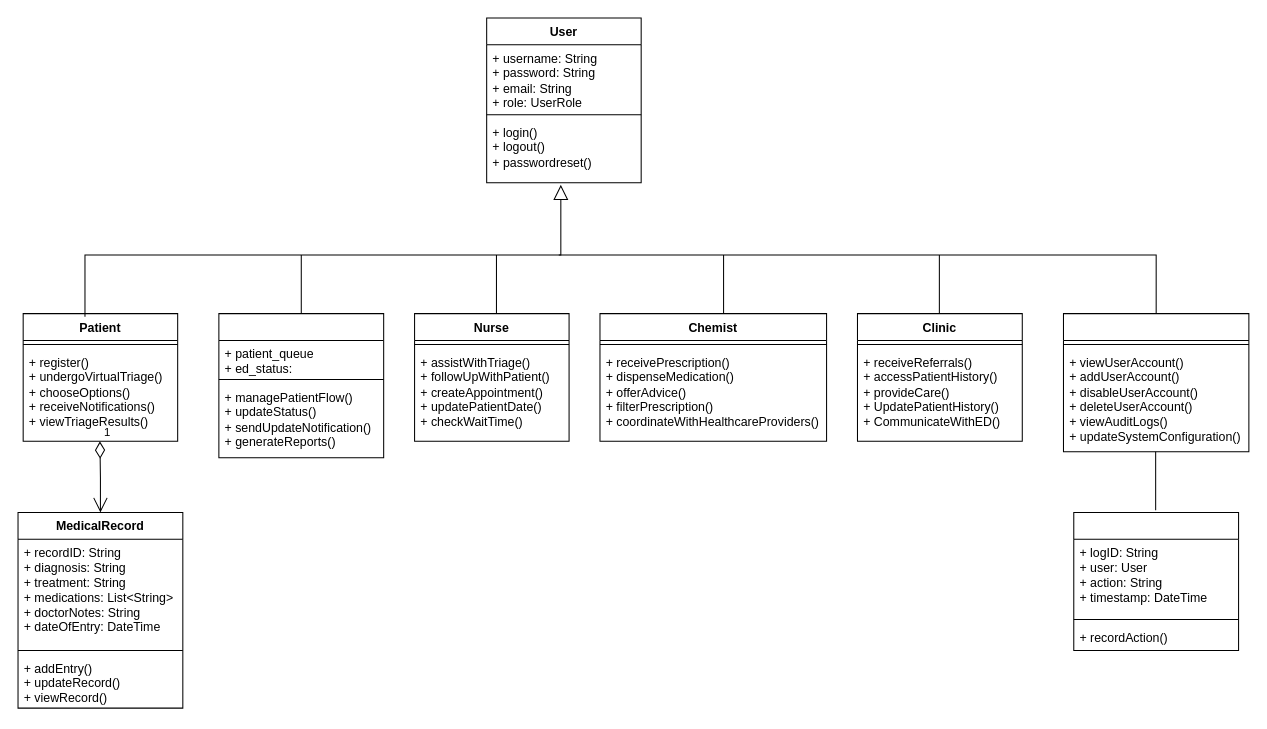
This 1267x729 diagram has some shape labels left out. Each missing label, with the box of its shape:
Admin: (1062, 313, 1249, 452)
AuditLog: (1073, 511, 1239, 650)
ED: (218, 313, 384, 458)
